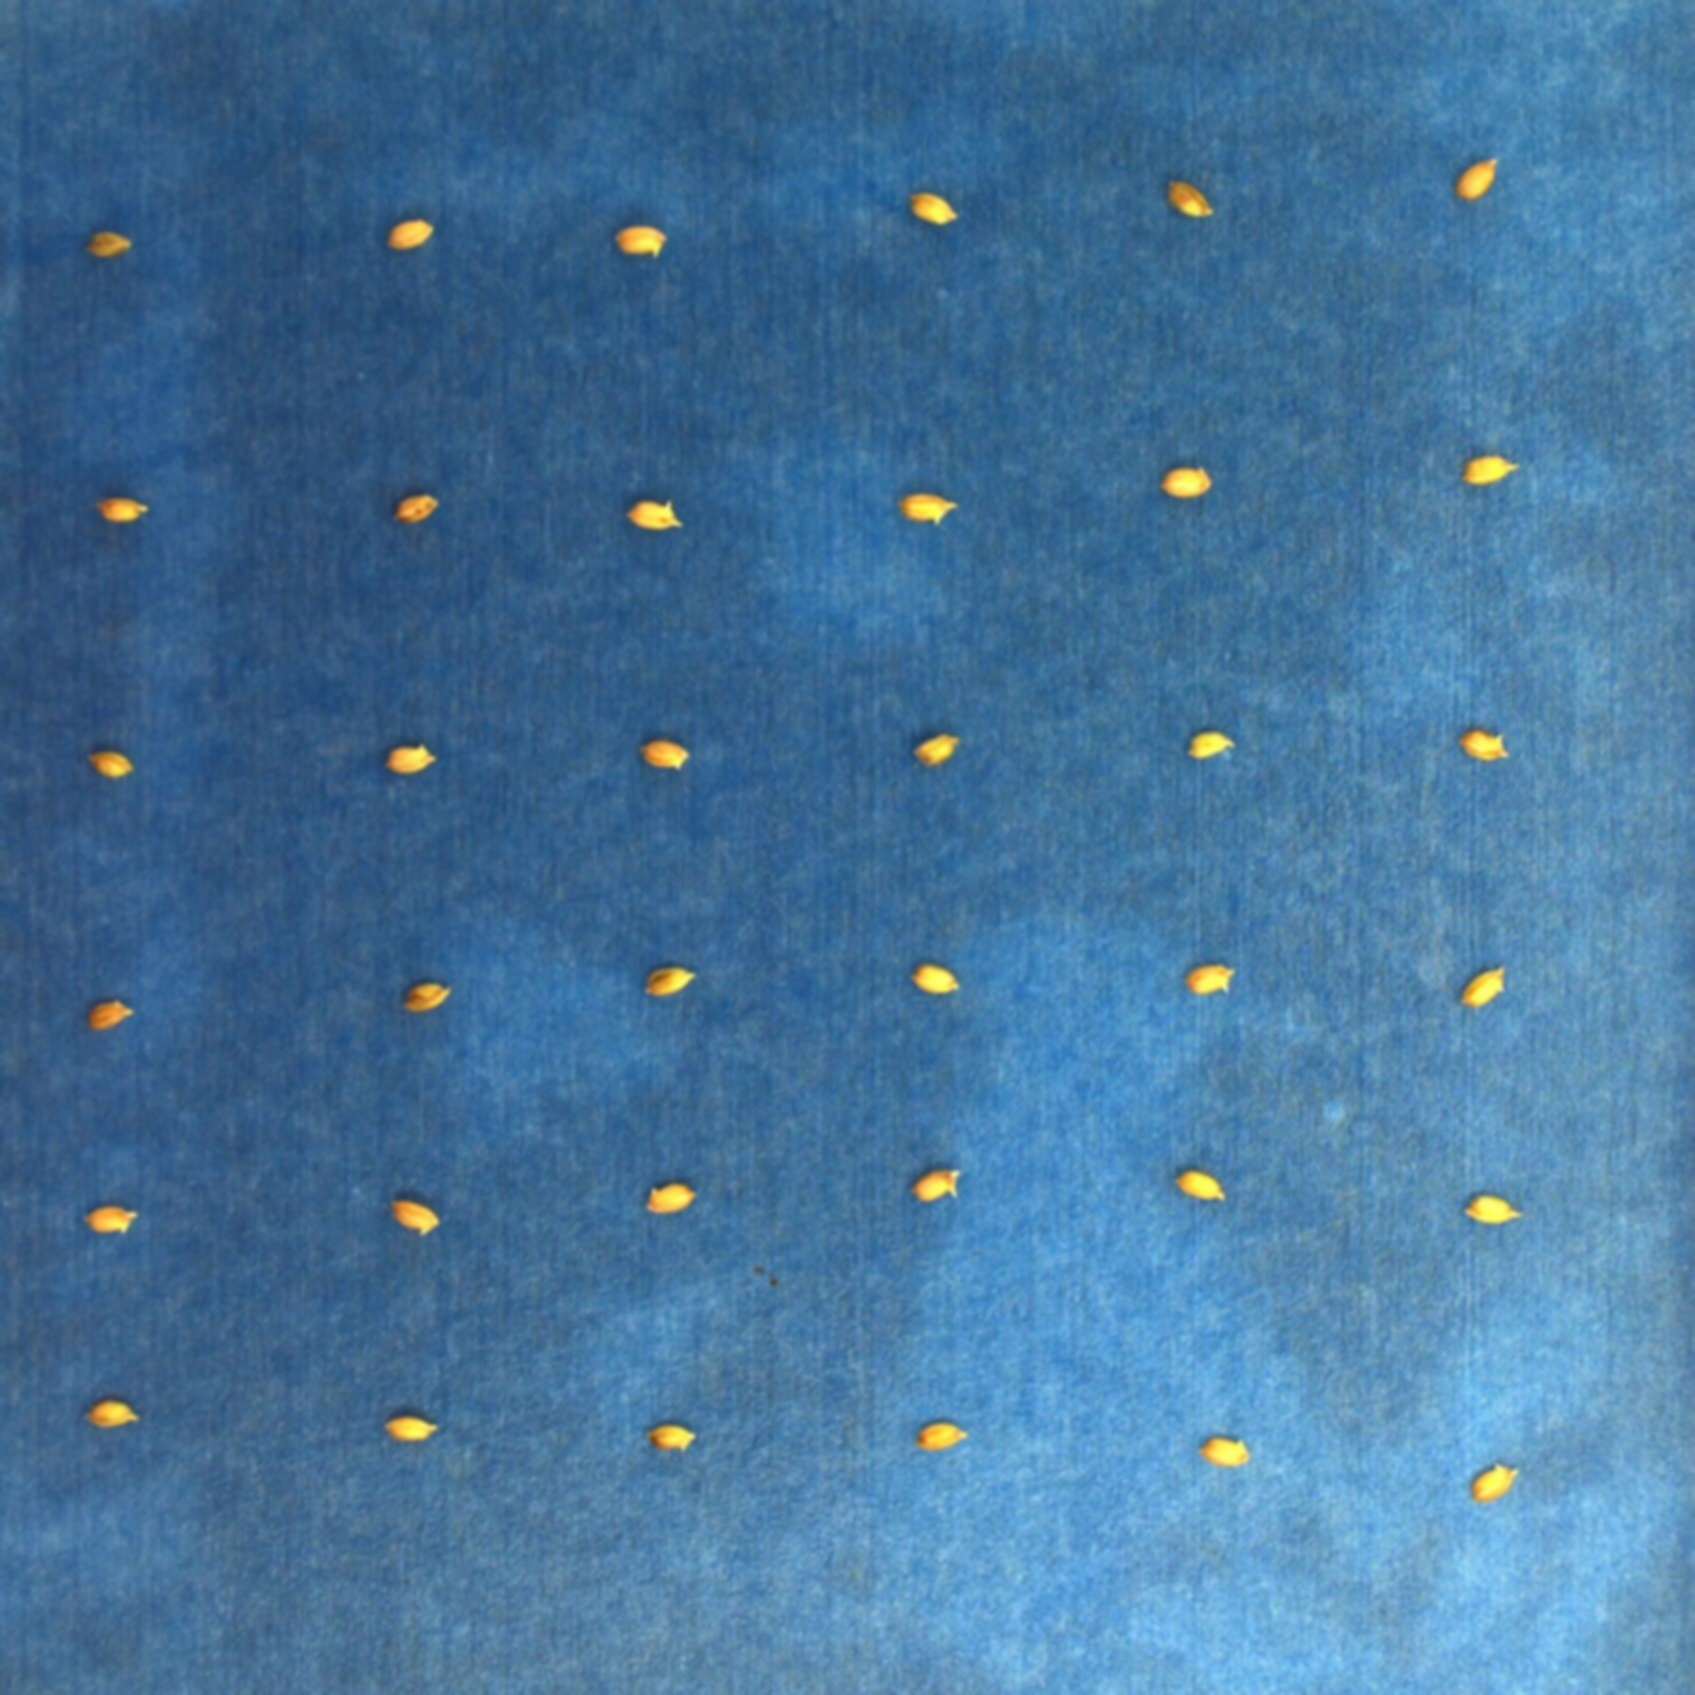not sprout: (1458, 1187, 1529, 1229), (385, 1192, 445, 1239), (622, 497, 691, 536), (1169, 1166, 1231, 1208), (905, 185, 962, 230), (1163, 175, 1220, 220), (1456, 961, 1506, 1012), (1152, 466, 1218, 503), (906, 1166, 965, 1208), (382, 1409, 442, 1450), (1467, 1461, 1518, 1507), (1458, 449, 1523, 484), (1183, 958, 1239, 998), (82, 1395, 143, 1433), (1194, 1433, 1254, 1470), (900, 489, 962, 525), (636, 965, 698, 1001), (607, 224, 671, 258), (397, 978, 452, 1017), (1454, 730, 1513, 765), (910, 962, 965, 1000), (391, 489, 442, 529), (385, 214, 435, 255), (913, 1419, 972, 1451), (1454, 157, 1495, 203), (633, 740, 694, 771), (76, 1205, 137, 1236), (382, 744, 439, 776), (85, 747, 140, 781), (643, 1181, 698, 1214), (643, 1423, 700, 1454), (1184, 726, 1236, 761), (82, 997, 133, 1031), (95, 497, 151, 528), (911, 733, 956, 770), (81, 230, 132, 261)
